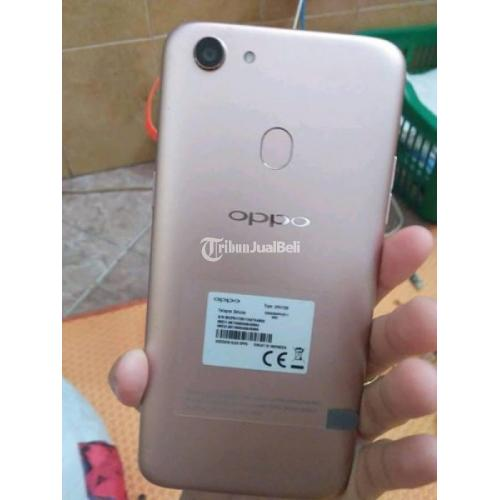Handphone: (135, 18, 411, 500)
